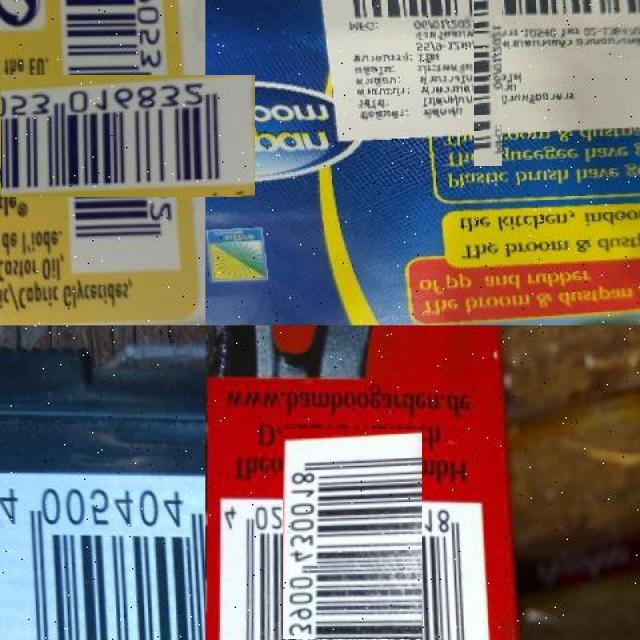Barcode: (20, 38, 218, 235), (248, 464, 458, 640), (0, 476, 206, 640), (405, 0, 572, 97)
